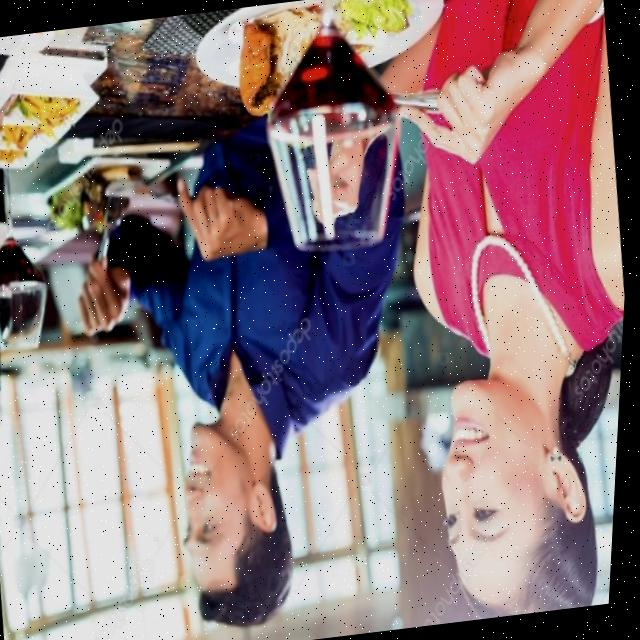eating-person: (182, 0, 628, 622), (22, 107, 404, 638)
